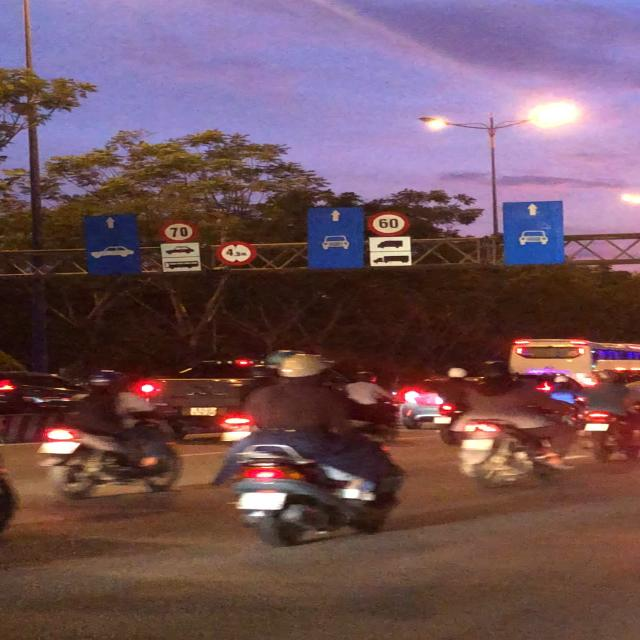Bien bao han che chieu cao: (214, 240, 260, 268)
Bien bao toc do toi da cho phep: (365, 209, 411, 237), (158, 218, 198, 242)
